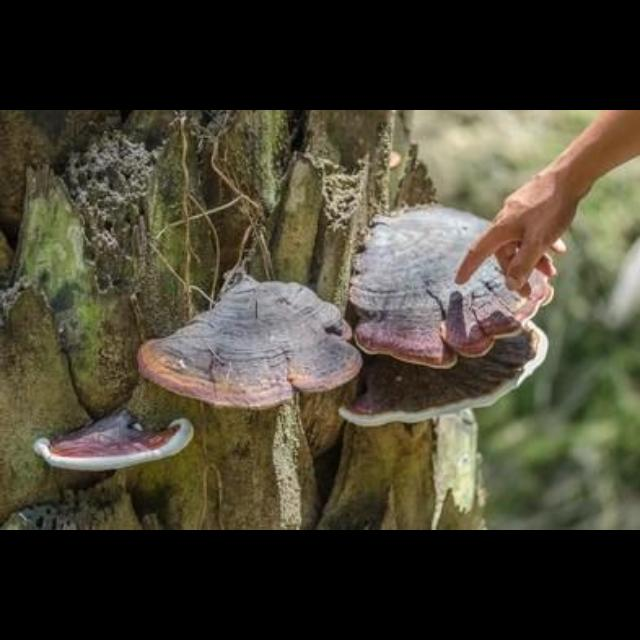ganoderma: (347, 206, 557, 372), (137, 279, 366, 414), (339, 320, 552, 430), (34, 413, 196, 474)
